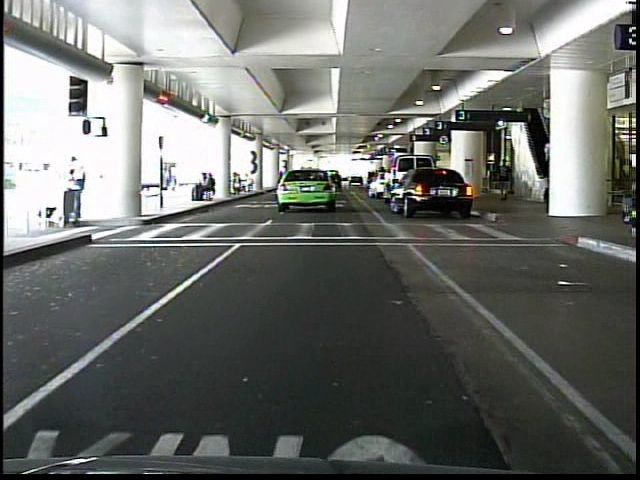person: (62, 154, 95, 231), (496, 159, 512, 204)
